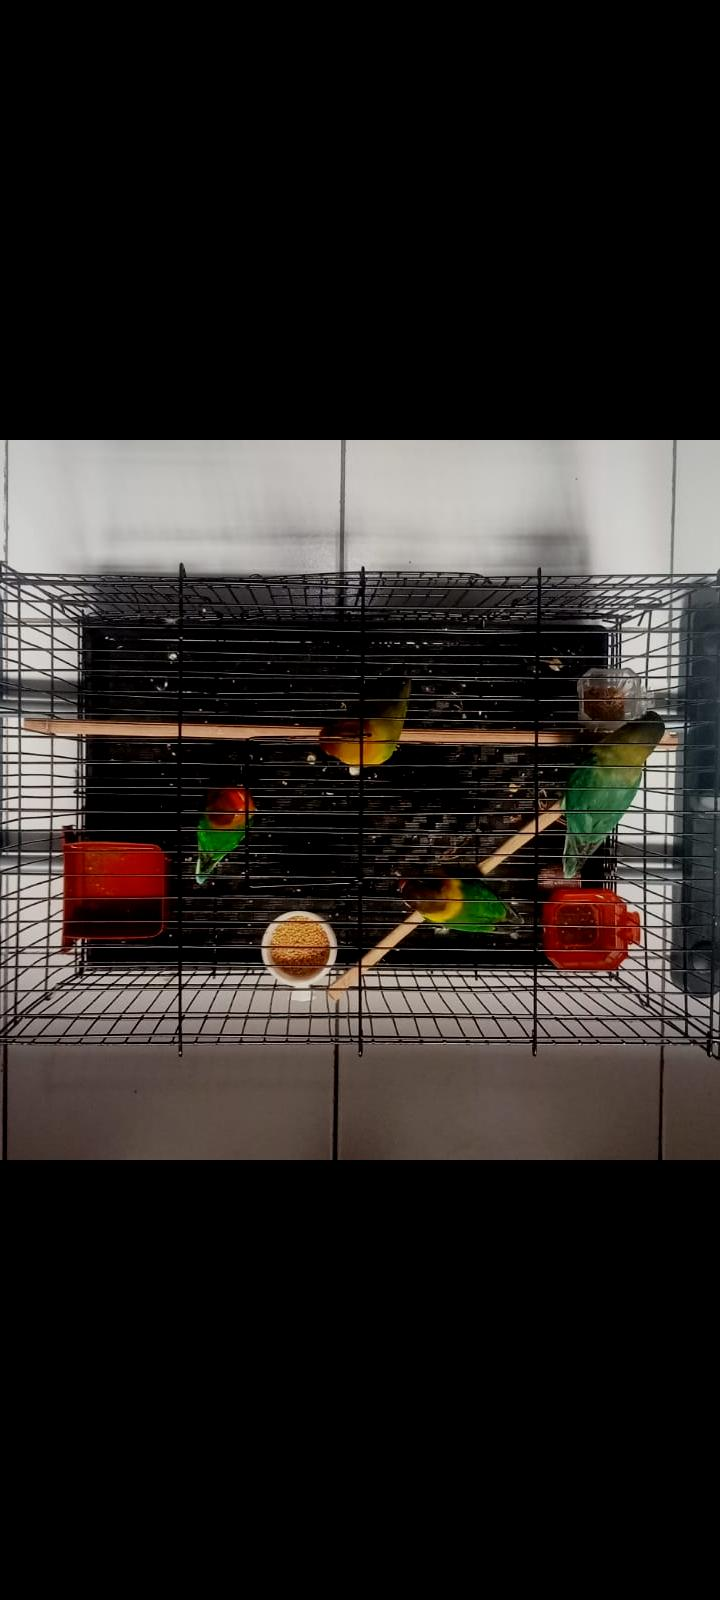LoveBird: (561, 709, 664, 879), (318, 661, 410, 768), (396, 862, 525, 935), (195, 784, 257, 884)
